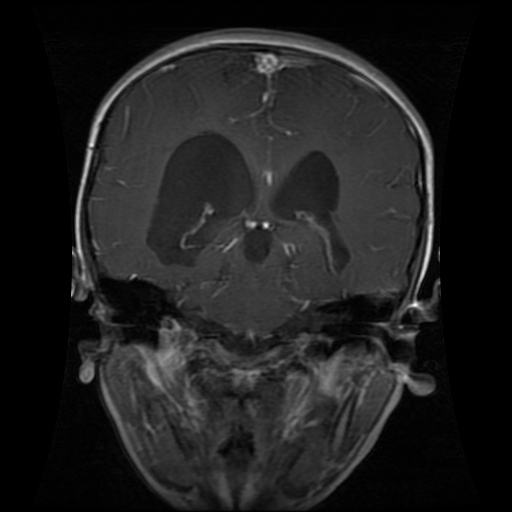glioma: (145, 127, 261, 268)
